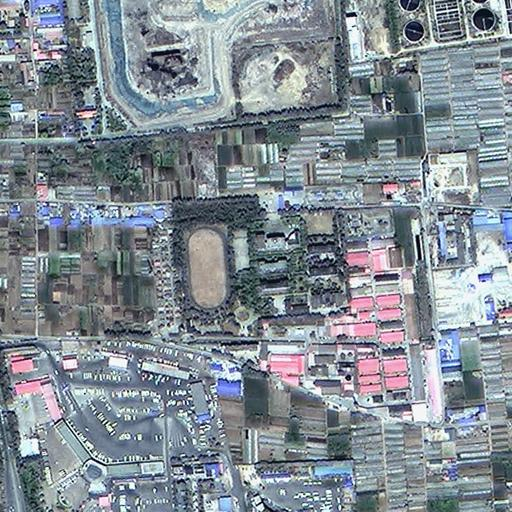school: (175, 223, 293, 314)
